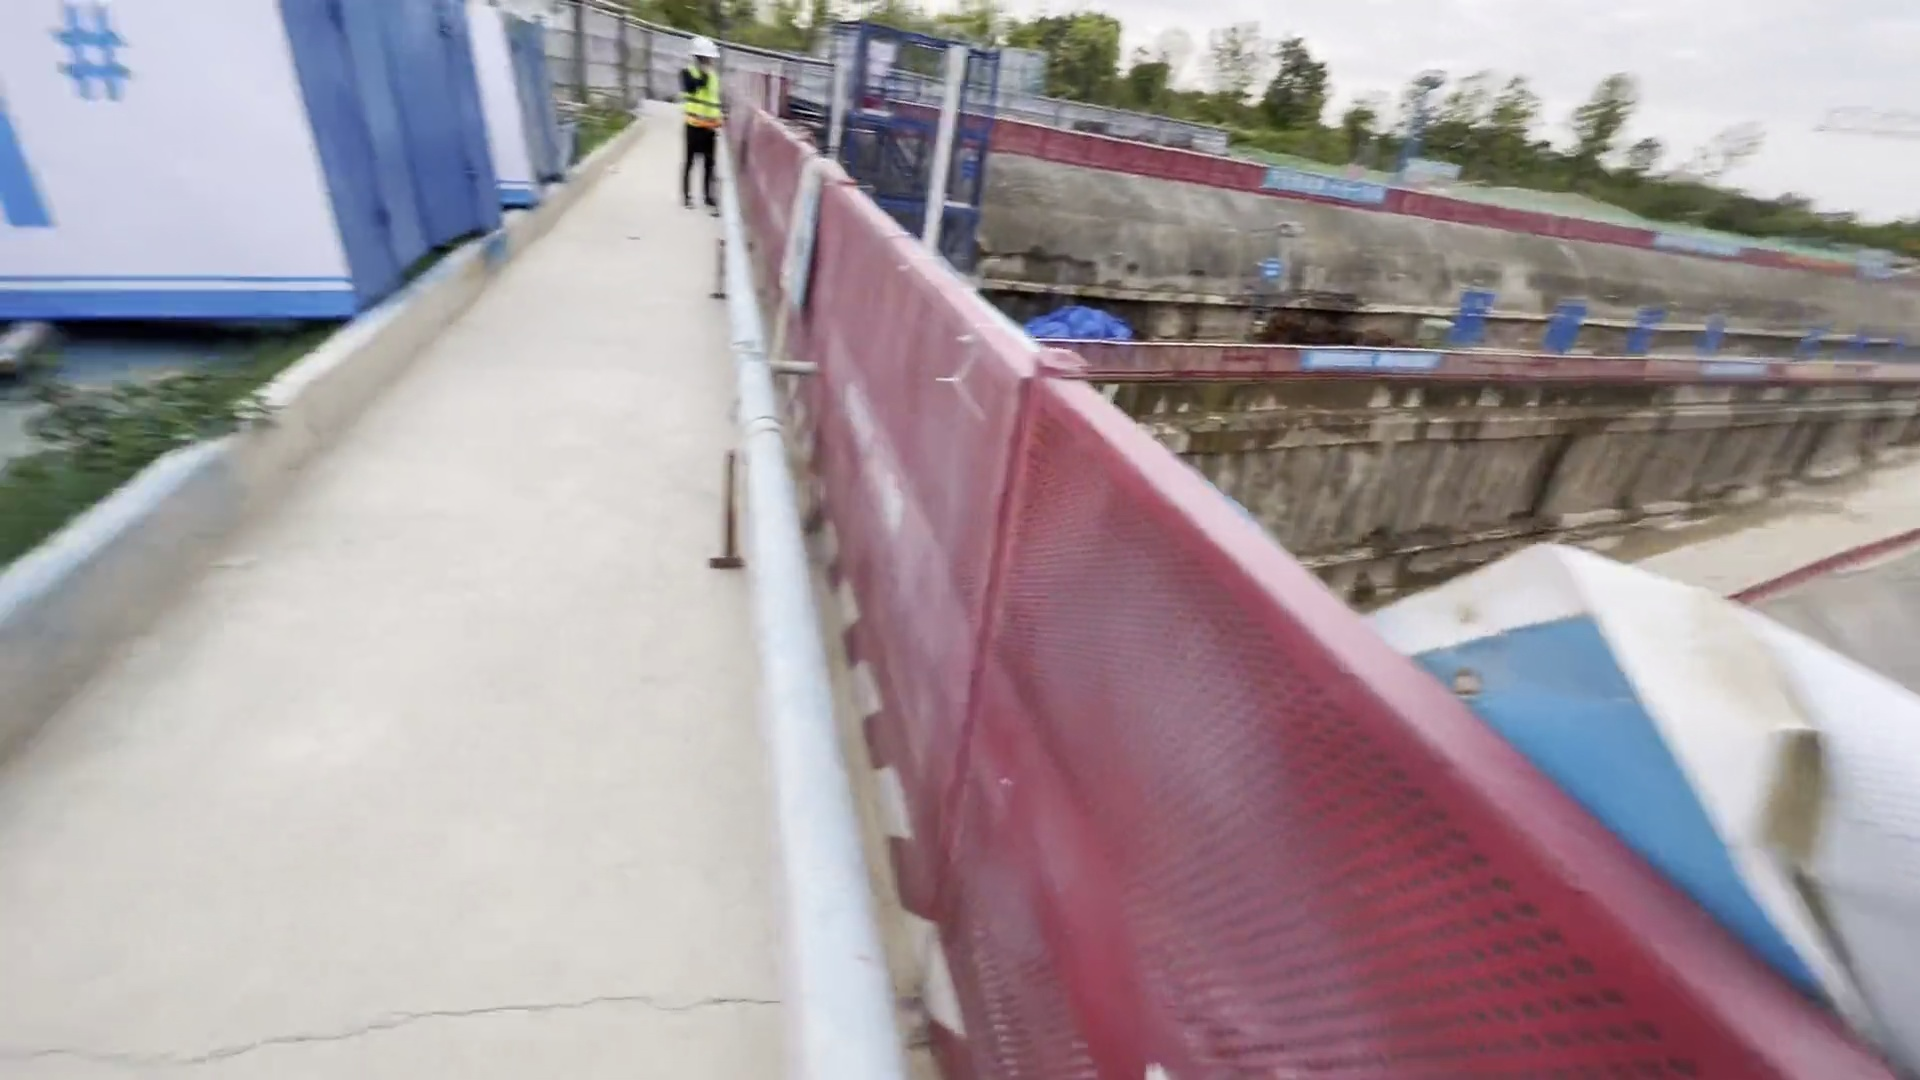fence: (752, 111, 1822, 1080), (996, 118, 1920, 291), (1110, 303, 1899, 407)
helmet: (689, 30, 718, 70)
person: (664, 25, 732, 227)
vest: (681, 67, 730, 139)
